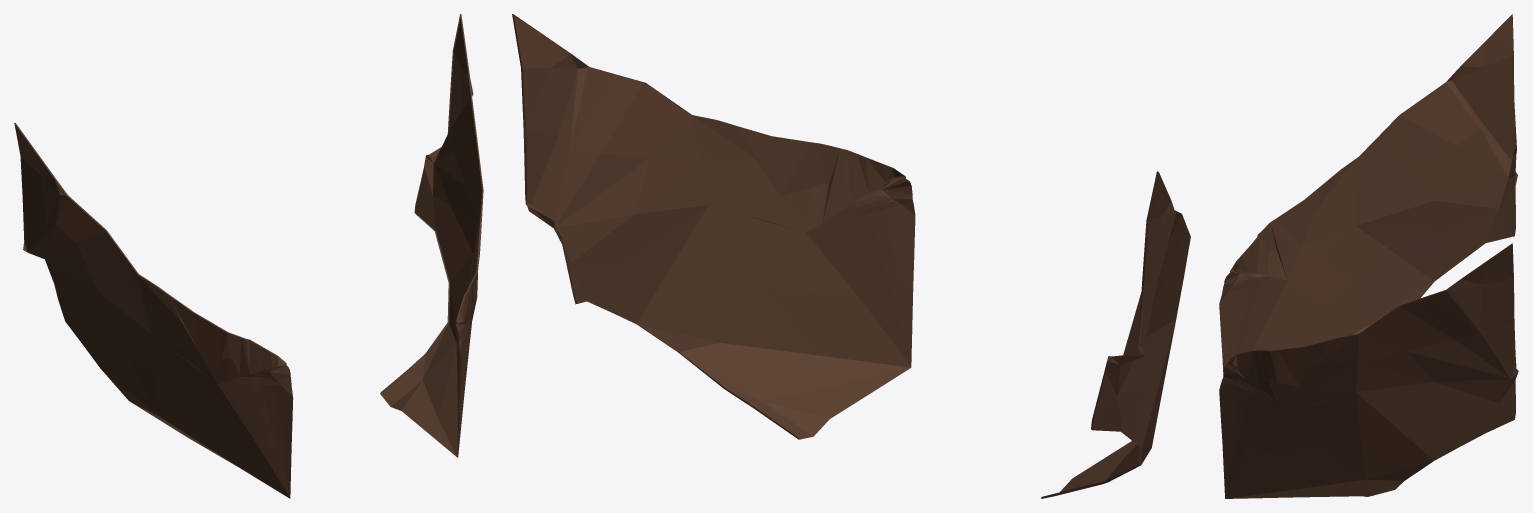
Rendered from costeletas_blocadas.glb.
3 renders of one model, left to right at view 1: azimuth 30°, elevation 25°; view 2: azimuth 150°, elevation 25°; view 3: azimuth 270°, elevation 25°, orthographic. The views are drawn at different scales.
Visible parts, largest first — view 1: EA_costeletas_blocadas; view 2: EA_costeletas_blocadas; view 3: EA_costeletas_blocadas.
Part boxes in pixels (x1=…): EA_costeletas_blocadas: x1=14, y1=14, x2=483, y2=498; EA_costeletas_blocadas: x1=512, y1=14, x2=1190, y2=498; EA_costeletas_blocadas: x1=1219, y1=14, x2=1518, y2=498.
Size of the model in its own units: 0.2132 by 0.1415 by 0.1175.
